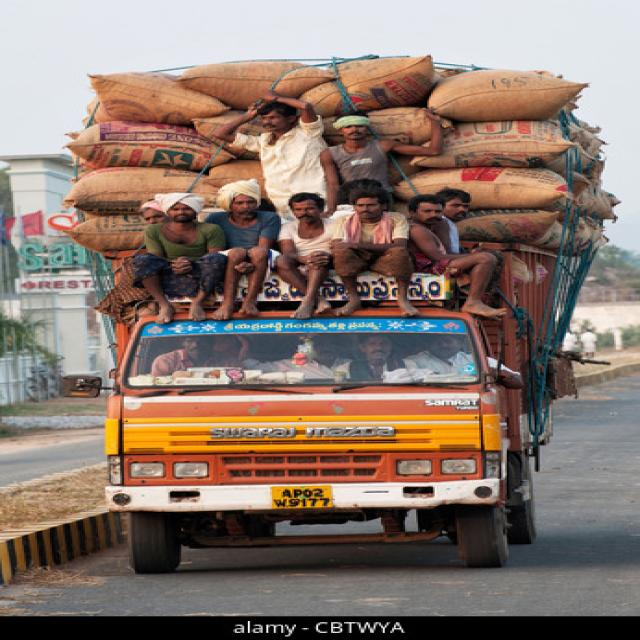goods: (62, 56, 618, 326)
truck: (105, 244, 560, 572)
